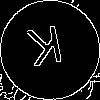K: (25, 25, 67, 76)
